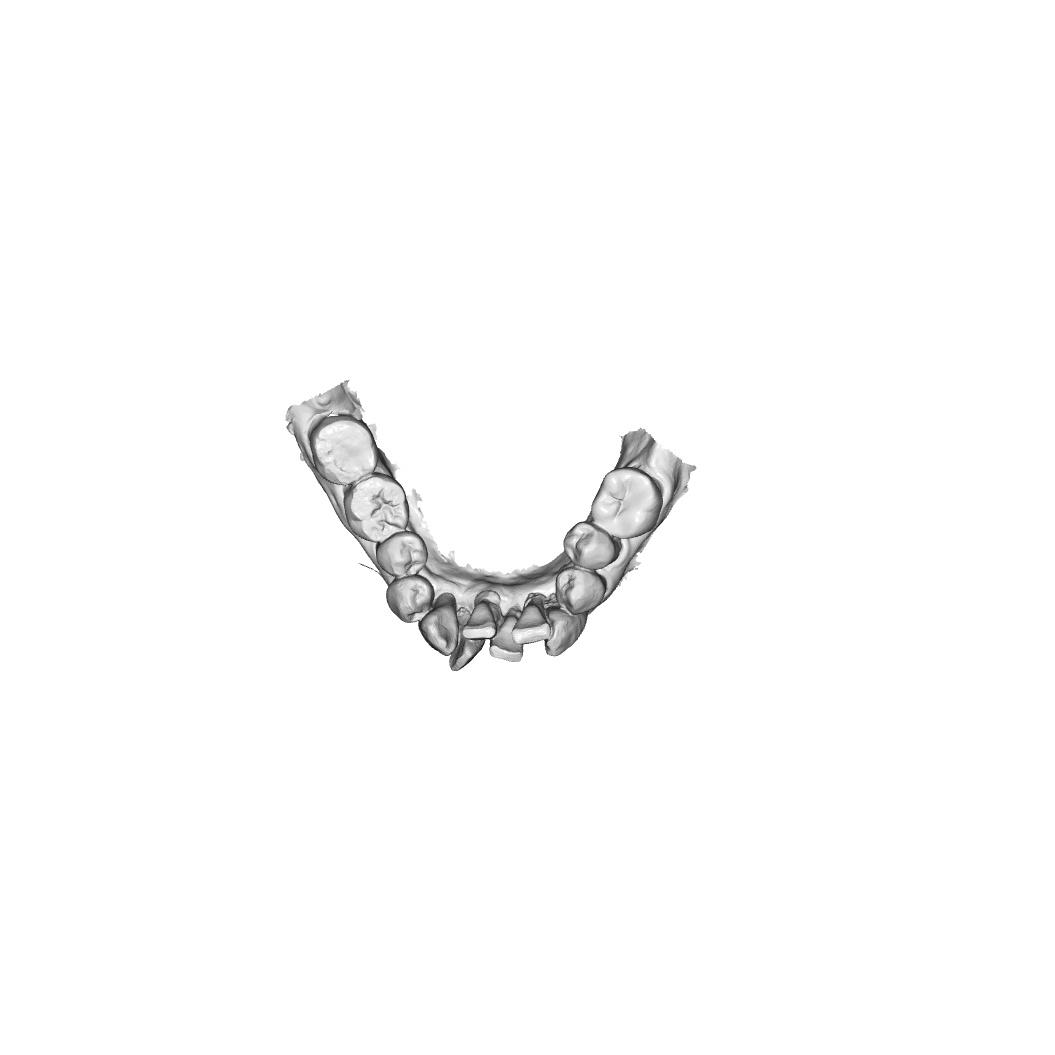canine: (418, 600, 460, 658), (544, 606, 589, 659)
incisor: (488, 612, 524, 664), (511, 602, 551, 646), (462, 599, 498, 642), (448, 639, 486, 672)
molar: (589, 465, 664, 540), (308, 414, 381, 487), (342, 472, 409, 546)
premolar: (563, 521, 620, 571), (375, 530, 429, 580), (555, 567, 607, 616), (386, 574, 435, 624)
